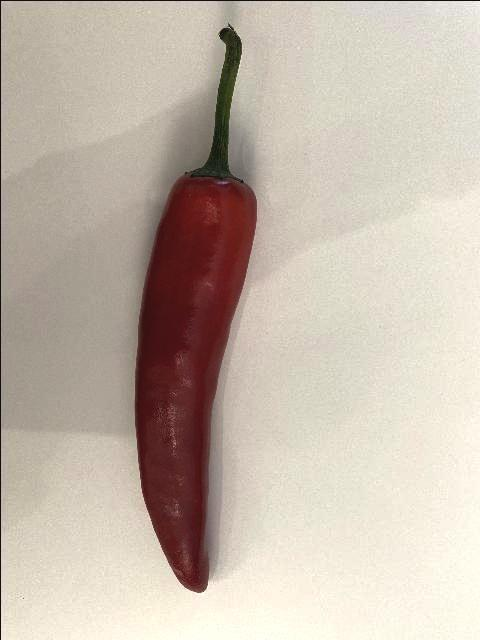chilli: (132, 24, 258, 594)
